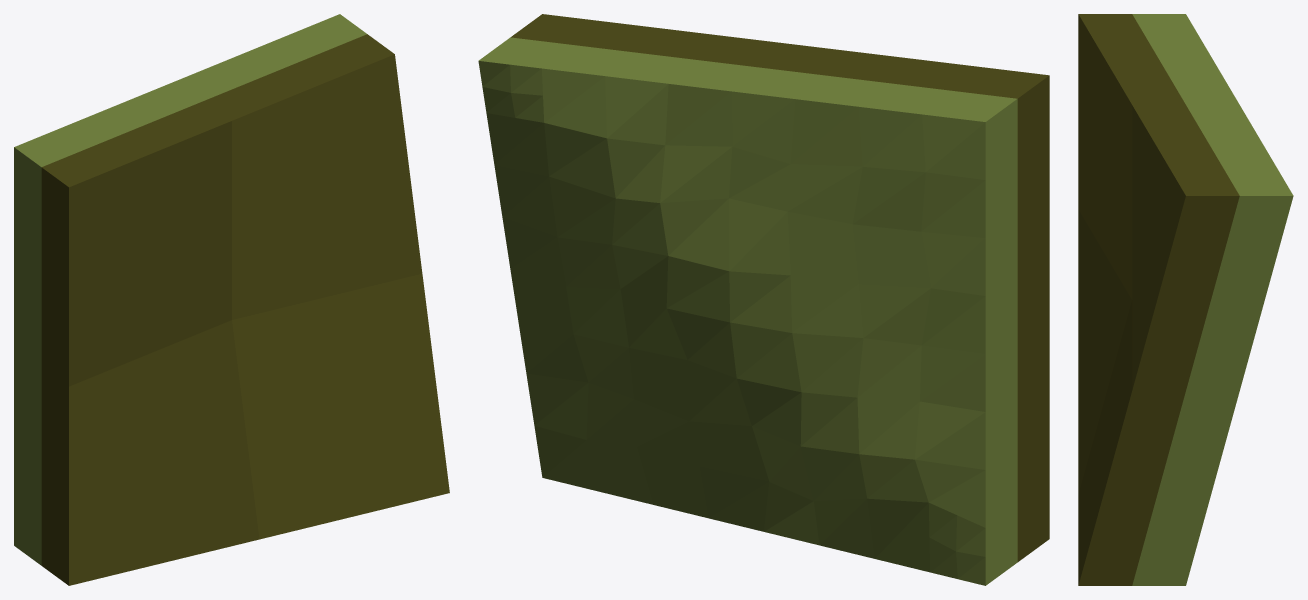
Rendered from Slant_Up_Corner.fbx.
3 views of the same model, side by side, from view 1: azimuth 30°, elevation 25°; view 2: azimuth 150°, elevation 25°; view 3: azimuth 270°, elevation 25° (orthographic). The views are drawn at different scales.
Parts seen in each view (by area): view 1: Slant_Up_Corner; view 2: Slant_Up_Corner; view 3: Slant_Up_Corner.
Boxes of the visible parts, x1,y1,x2,y2 form: Slant_Up_Corner: (14, 14, 449, 585); Slant_Up_Corner: (478, 14, 1049, 585); Slant_Up_Corner: (1078, 14, 1293, 585).
Bounding box in the file's own units: 400 × 400 × 200.
